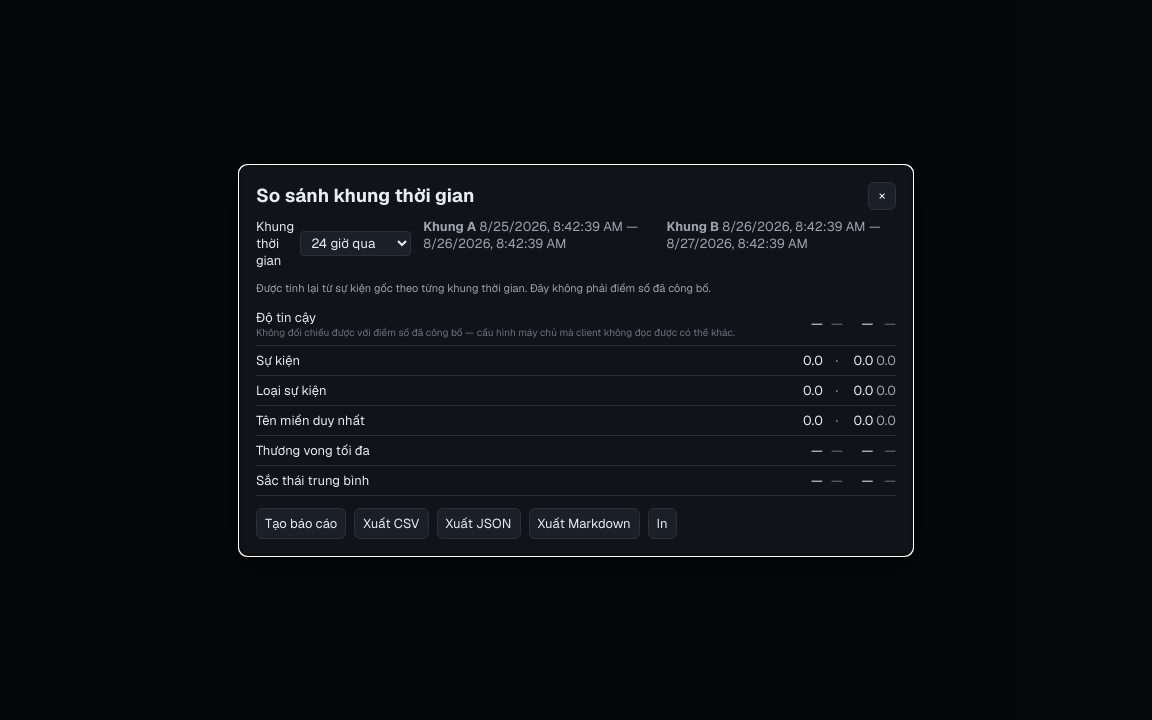
Scenario: CompareDialog › reports report failure without breaking the comparison
This screenshot has width=1152, height=720.
Click the button "Tạo báo cáo" at (301, 523), box [256, 508, 346, 538]
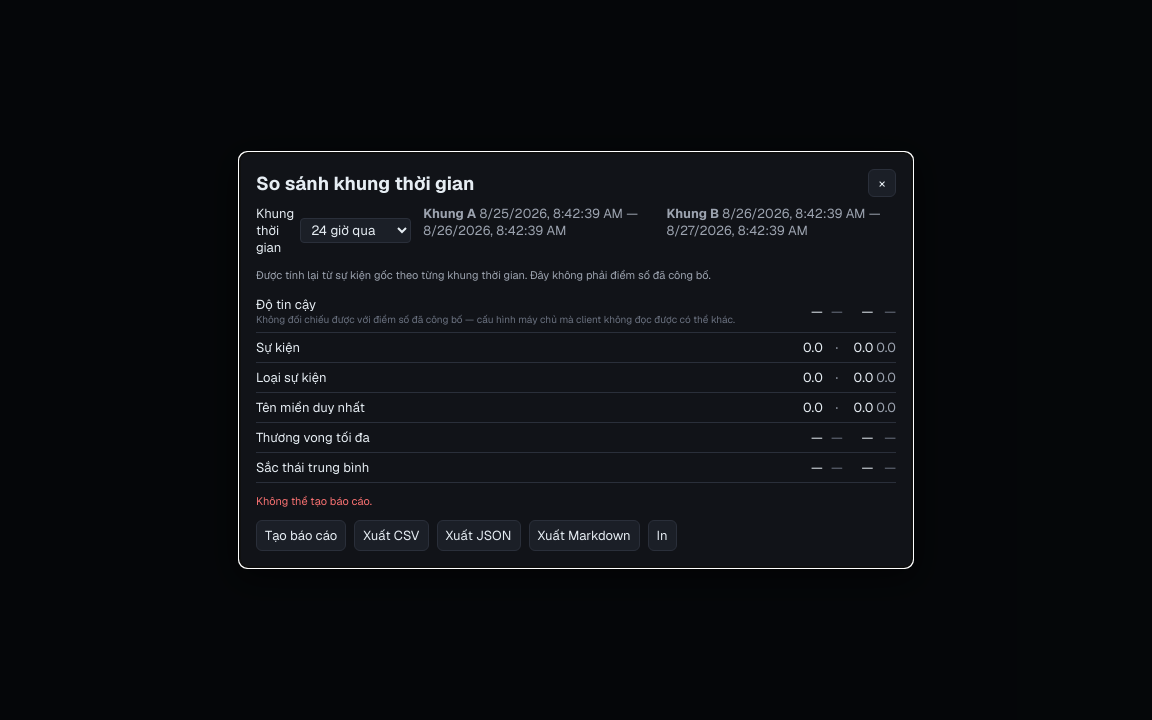
Check: the button "Xuất CSV" is shown, box [354, 520, 428, 551]
Check: the text "Không thể tạo báo cáo." is shown, box [256, 494, 372, 508]
